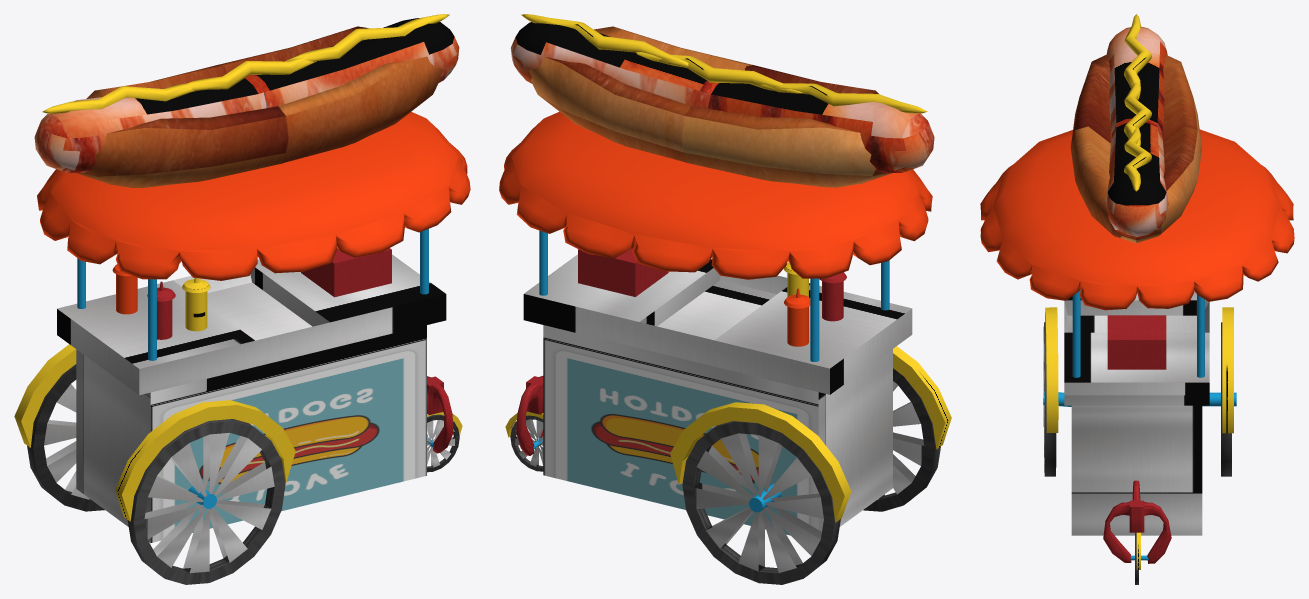
Rendered from CarroHotdog.obj.
The picture shows the model from 3 angles, left to right: view 1: azimuth 30°, elevation 25°; view 2: azimuth 150°, elevation 25°; view 3: azimuth 270°, elevation 25°; orthographic projection. The views are drawn at different scales.
Visible parts, largest first — view 1: pCube21, pCube22, pCube30, pCylinder23, pCube33, pCube37, pCylinder22, pCylinder5, pCube38, pCylinder6, pCube23, pCylinder25 (+4 smaller); view 2: pCube21, pCube22, pCube30, pCylinder5, pCube33, pCylinder6, pCube37, pCylinder23, pCube38, pCylinder22, pCube23, pCylinder27 (+4 smaller); view 3: pCube22, pCube21, pCube30, pCube33, pCube38, pCube37, pCube23, pCylinder22, pCylinder6, pCylinder23, pCylinder16, pCylinder5 (+1 smaller).
Boxes of the visible parts, left/top/right/bottom form: pCube21: left=57, top=254, right=446, bottom=543; pCube22: left=37, top=111, right=470, bottom=280; pCube30: left=76, top=26, right=443, bottom=187; pCylinder23: left=127, top=419, right=285, bottom=584; pCube33: left=34, top=18, right=459, bottom=172; pCube37: left=42, top=14, right=449, bottom=113; pCylinder22: left=115, top=400, right=295, bottom=521; pCylinder5: left=27, top=364, right=104, bottom=511; pCube38: left=301, top=248, right=391, bottom=297; pCylinder6: left=14, top=344, right=76, bottom=447; pCube23: left=427, top=376, right=453, bottom=453; pCylinder25: left=182, top=278, right=210, bottom=331; pCube21: left=523, top=254, right=912, bottom=535; pCube22: left=499, top=111, right=932, bottom=279; pCube30: left=529, top=26, right=892, bottom=187; pCylinder5: left=682, top=421, right=840, bottom=584; pCube33: left=510, top=22, right=934, bottom=173; pCylinder6: left=670, top=402, right=851, bottom=522; pCube37: left=521, top=14, right=927, bottom=113; pCylinder23: left=863, top=368, right=940, bottom=511; pCube38: left=578, top=248, right=668, bottom=296; pCylinder22: left=893, top=346, right=951, bottom=449; pCube23: left=516, top=376, right=543, bottom=455; pCylinder27: left=784, top=288, right=810, bottom=346; pCube22: left=980, top=129, right=1294, bottom=310; pCube21: left=1064, top=291, right=1209, bottom=535; pCube30: left=1070, top=54, right=1201, bottom=243; pCube33: left=1105, top=26, right=1168, bottom=238; pCube38: left=1107, top=315, right=1166, bottom=369; pCube37: left=1124, top=14, right=1151, bottom=191; pCube23: left=1103, top=480, right=1171, bottom=563; pCylinder22: left=1045, top=307, right=1058, bottom=432; pCylinder6: left=1222, top=307, right=1233, bottom=433; pCylinder23: left=1043, top=322, right=1056, bottom=476; pCylinder16: left=1072, top=290, right=1080, bottom=377; pCylinder5: left=1221, top=322, right=1231, bottom=476.
Size of the model in its own units: 7.35 by 7.7 by 5.36.
